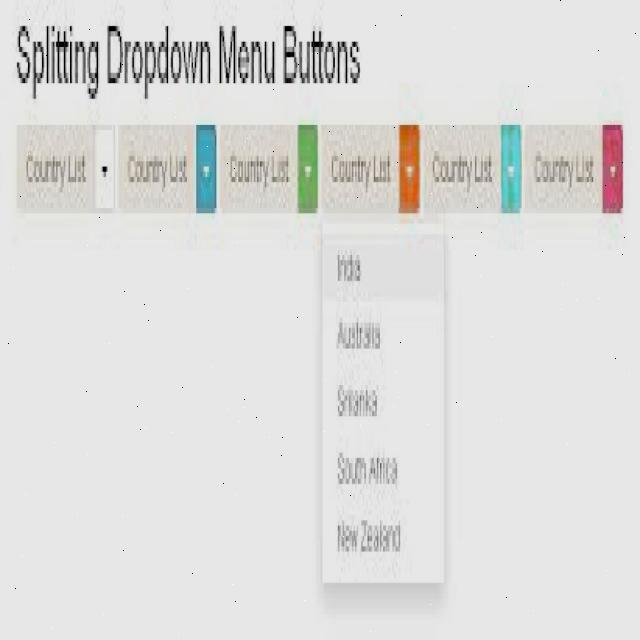dropdownMenu: (321, 223, 448, 588), (15, 125, 116, 214), (424, 124, 522, 215), (522, 124, 622, 213), (223, 125, 319, 214), (123, 125, 215, 214), (326, 128, 414, 215)
menuItem: (332, 447, 408, 491), (333, 514, 410, 555), (330, 312, 390, 356), (331, 378, 385, 418), (330, 243, 368, 290)
